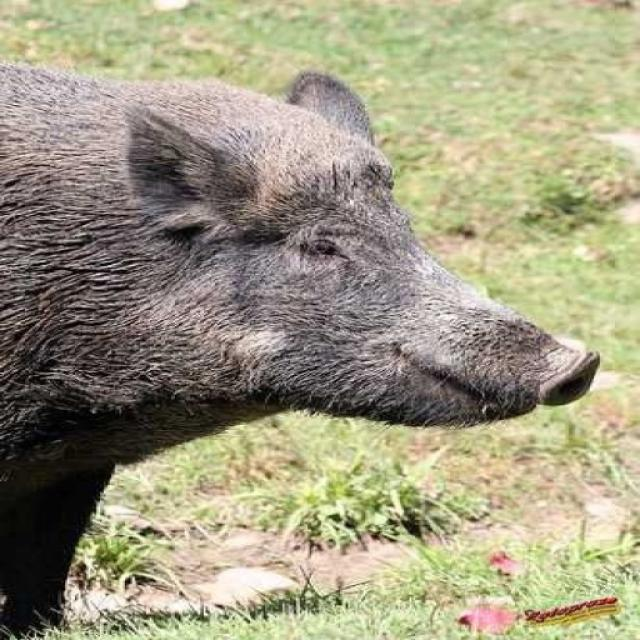pig: (0, 42, 605, 576)
